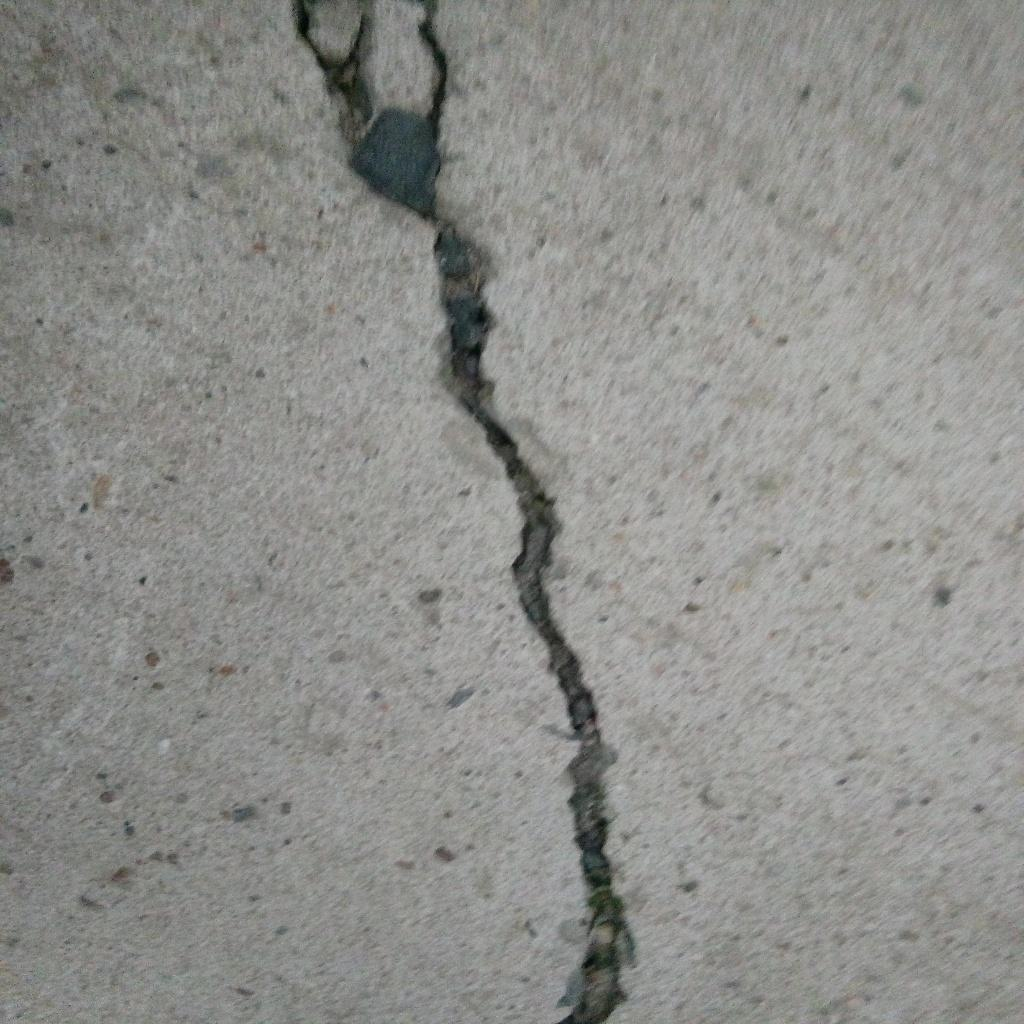Crack: (289, 1, 639, 1024)
